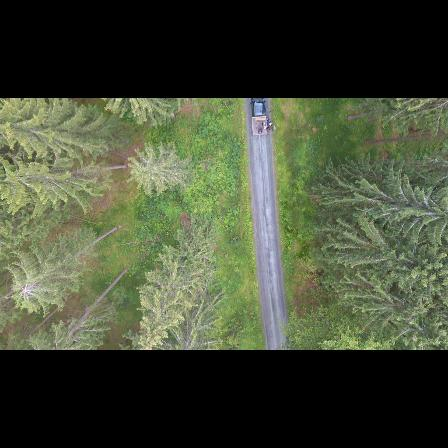Sick: (12, 272, 42, 310)
